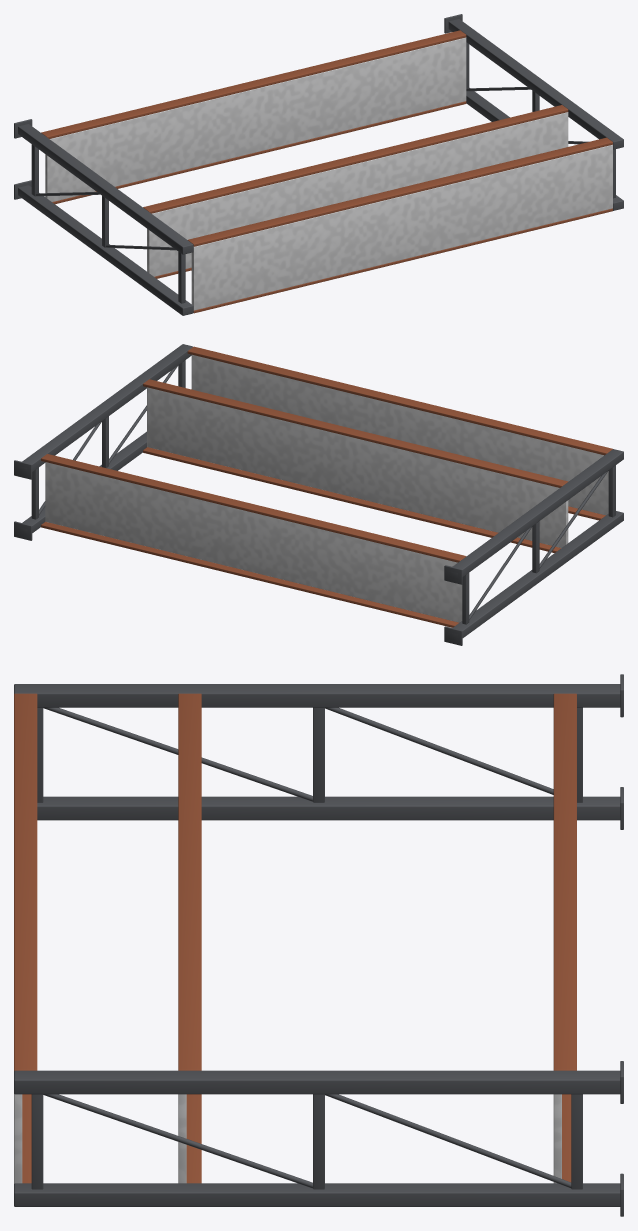
The model's file is Storage__RowA__Bay2.glb.
3 renders of one model, top to bottom at view 1: azimuth 30°, elevation 25°; view 2: azimuth 150°, elevation 25°; view 3: azimuth 270°, elevation 25°, orthographic. The views are drawn at different scales.
Parts seen in each view (by area): view 1: /World/Storage/RowA/Bay2/Visual/two_sided_tote_shelving_body (×3); view 2: /World/Storage/RowA/Bay2/Visual/two_sided_tote_shelving_body (×3); view 3: /World/Storage/RowA/Bay2/Visual/two_sided_tote_shelving_body (×3).
Boxes of the visible parts, box(x1,y1,x2,y2) form: /World/Storage/RowA/Bay2/Visual/two_sided_tote_shelving_body (×3): box(14, 14, 623, 315); /World/Storage/RowA/Bay2/Visual/two_sided_tote_shelving_body (×3): box(14, 344, 623, 645); /World/Storage/RowA/Bay2/Visual/two_sided_tote_shelving_body (×3): box(14, 674, 623, 1216).
Size of the model in its own units: 2.03 by 0.33 by 1.3.
Materials: 3 (1 with a texture image).
